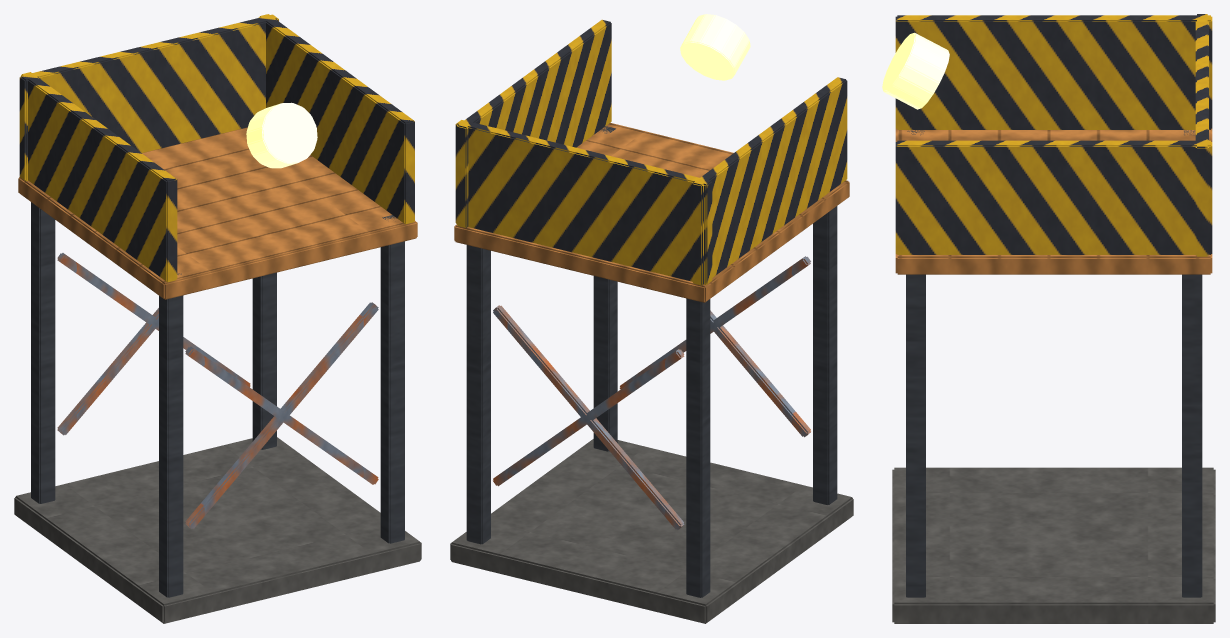
File: fac_watchtower.glb
The picture shows the model from 3 angles, left to right: view 1: azimuth 30°, elevation 25°; view 2: azimuth 150°, elevation 25°; view 3: azimuth 270°, elevation 25°; orthographic projection. The views are drawn at different scales.
Parts seen in each view (by area): view 1: fac_watchtower; view 2: fac_watchtower; view 3: fac_watchtower.
Part boxes in pixels (x1,y1,x2,y2): fac_watchtower: (14, 14, 421, 623); fac_watchtower: (450, 14, 853, 623); fac_watchtower: (882, 14, 1215, 623).
Size of the model in its own units: 1.92 by 3.41 by 1.98.
6 materials, 5 textured.
